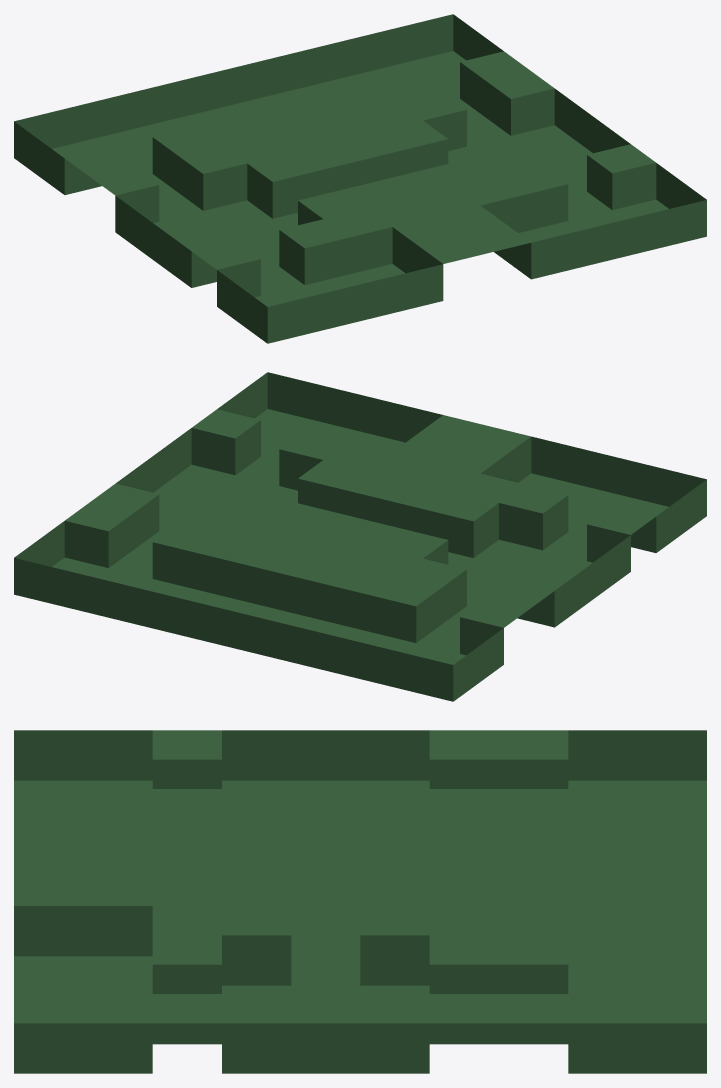
File: level.obj
3 views of the same model, one above another, from view 1: azimuth 30°, elevation 25°; view 2: azimuth 150°, elevation 25°; view 3: azimuth 270°, elevation 25° (orthographic). The views are drawn at different scales.
Parts seen in each view (by area): view 1: Plane; view 2: Plane; view 3: Plane.
Boxes of the visible parts, bbox=[...] form: Plane: bbox=[14, 14, 706, 343]; Plane: bbox=[14, 372, 706, 701]; Plane: bbox=[14, 730, 706, 1073].
Bounding box in the file's own units: 49.95 × 4 × 49.95.
